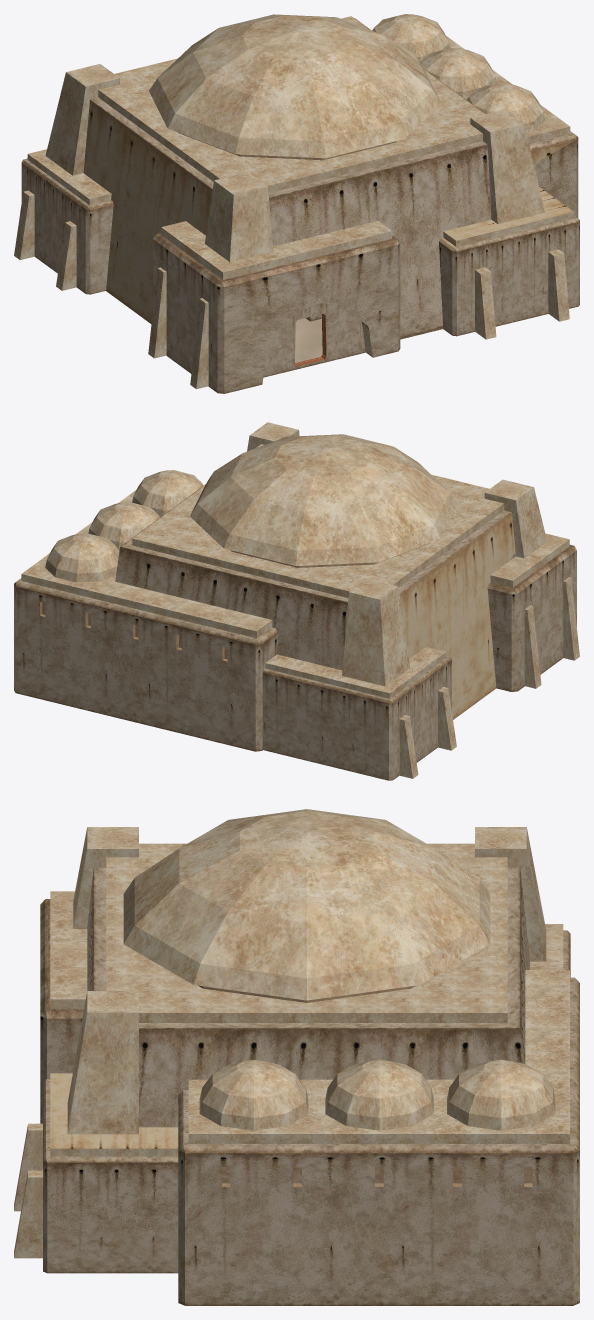
Rendered from thm_tato_imprv_building_s05_r0_mesh_l1.fbx.
3 renders of one model, top to bottom at view 1: azimuth 30°, elevation 25°; view 2: azimuth 150°, elevation 25°; view 3: azimuth 270°, elevation 25°, orthographic. The views are drawn at different scales.
Parts seen in each view (by area): view 1: mesh_node; view 2: mesh_node; view 3: mesh_node.
Part boxes in pixels (<box>): mesh_node: <box>14,14,579,393</box>; mesh_node: <box>14,422,579,780</box>; mesh_node: <box>14,809,579,1305</box>.
Size of the model in its own units: 29.01 by 16.02 by 25.5.
